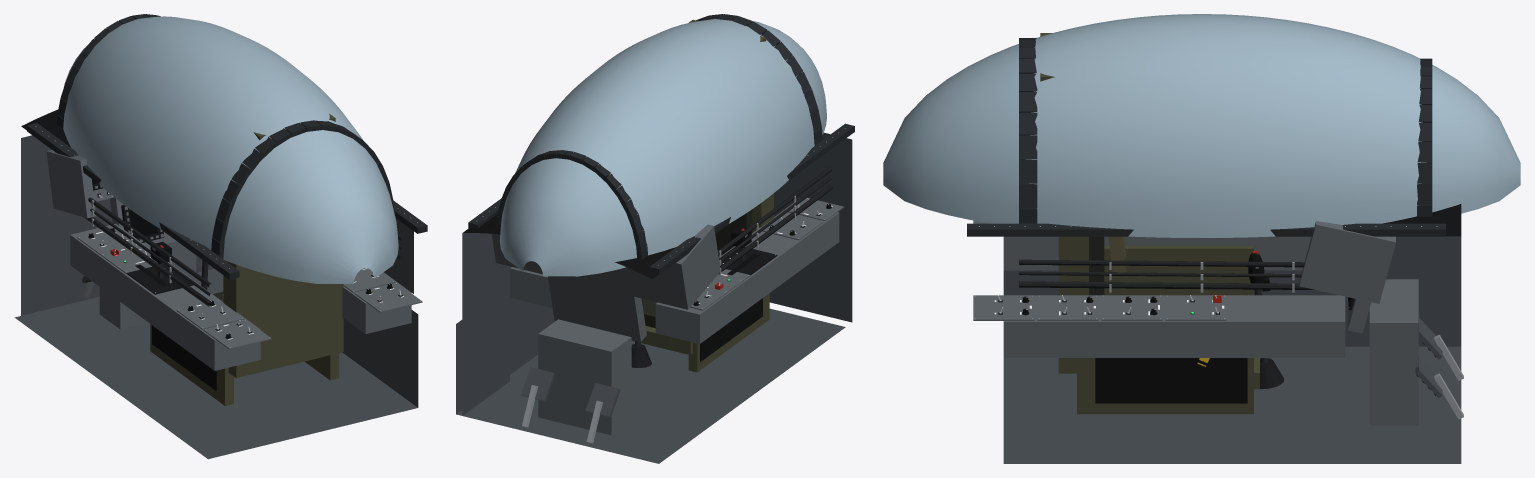
Rendered from kit_eagle.glb.
3 views of the same model, side by side, from view 1: azimuth 30°, elevation 25°; view 2: azimuth 150°, elevation 25°; view 3: azimuth 270°, elevation 25° (orthographic). The views are drawn at different scales.
Visible parts, largest first — view 1: cockpit, CANOPY_GLASS; view 2: cockpit, CANOPY_GLASS, STICK; view 3: cockpit, CANOPY_GLASS, STICK.
Boxes of the visible parts, <box> form: cockpit: <box>14,14,427,459</box>; CANOPY_GLASS: <box>63,16,398,283</box>; cockpit: <box>456,14,854,463</box>; CANOPY_GLASS: <box>499,19,826,276</box>; STICK: <box>631,298,651,367</box>; cockpit: <box>967,33,1463,463</box>; CANOPY_GLASS: <box>883,14,1520,237</box>; STICK: <box>1248,250,1283,388</box>.
Size of the model in its own units: 0.94 by 1.37 by 2.09.
